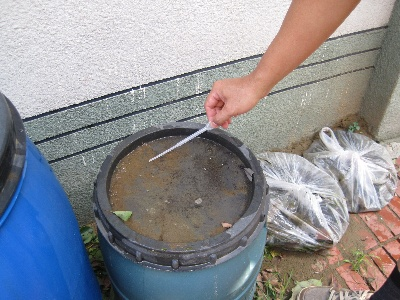plastic_bag: (269, 152, 347, 251), (307, 127, 397, 211)
plate: (92, 121, 265, 271)
